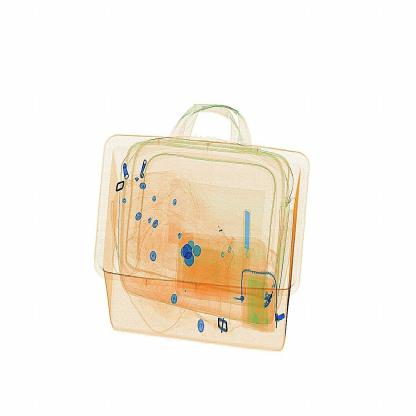pliers: (237, 200, 256, 280)
